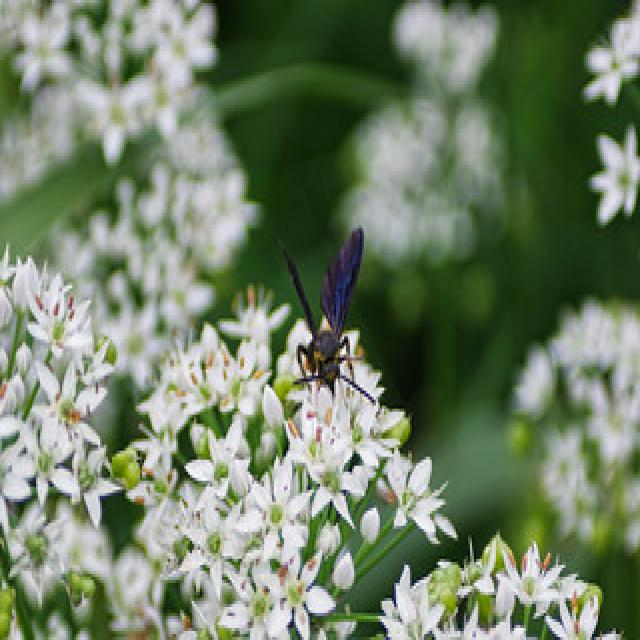Guepe: (270, 219, 394, 437)
